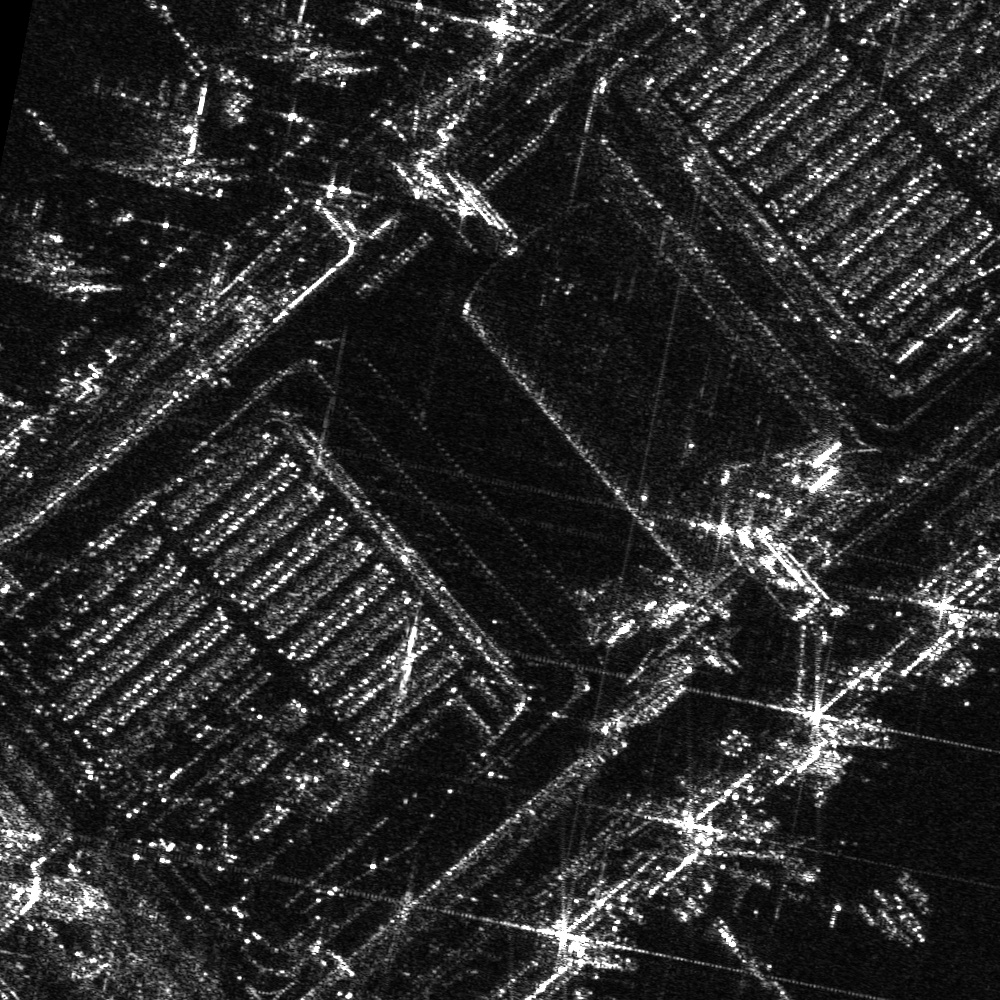A330: (731, 826, 851, 926)
Boeing737: (1, 189, 70, 269)
Boeing787: (93, 71, 209, 168)
